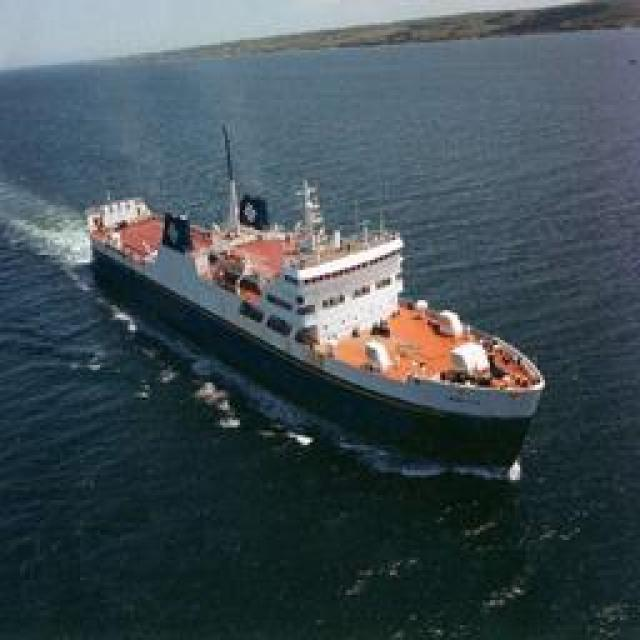ship2: (85, 128, 546, 484)
